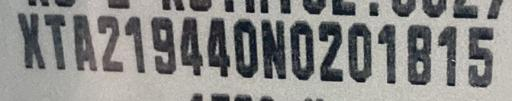letter: (466, 24, 498, 89), (258, 17, 290, 80), (316, 18, 346, 85), (287, 17, 317, 82), (148, 13, 178, 76), (16, 9, 46, 70), (204, 14, 232, 79), (231, 15, 259, 80), (406, 22, 434, 87), (70, 10, 98, 73), (345, 21, 373, 84), (96, 13, 124, 74), (178, 13, 204, 78), (374, 19, 398, 88), (42, 11, 68, 72), (122, 14, 148, 75), (434, 23, 458, 88)
